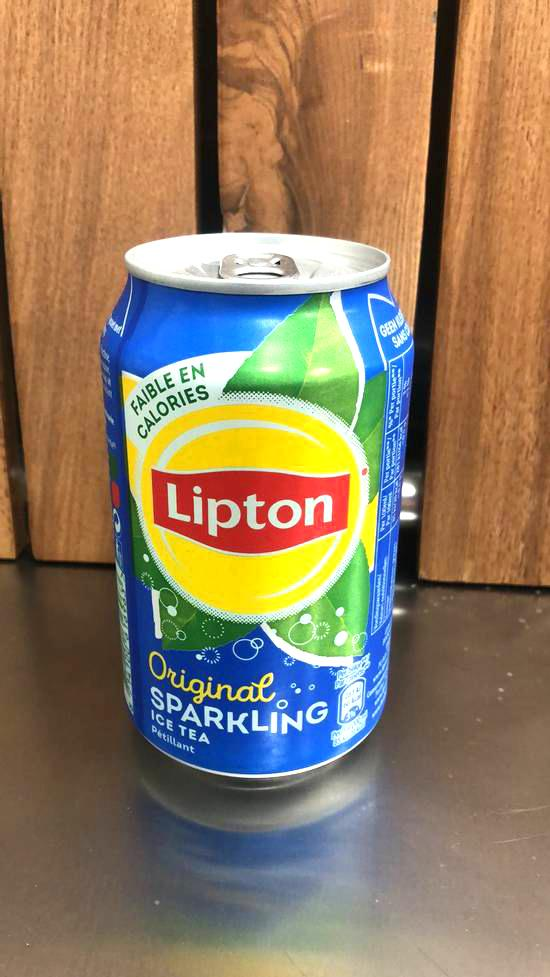metal: (98, 225, 415, 797)
